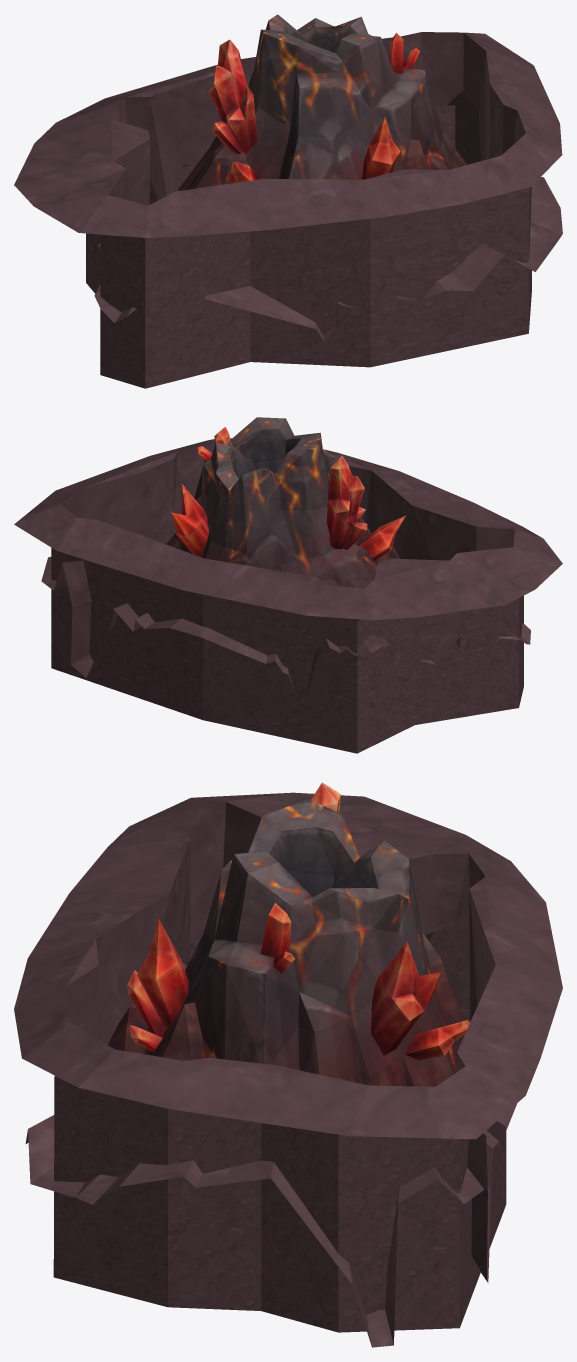
File: yandong_02.FBX
The picture shows the model from 3 angles, top to bottom: view 1: azimuth 30°, elevation 25°; view 2: azimuth 150°, elevation 25°; view 3: azimuth 270°, elevation 25°; orthographic projection. The views are drawn at different scales.
Parts seen in each view (by area): view 1: yandong_02c, yandong_02b, yandong_02a; view 2: yandong_02c, yandong_02b, yandong_02a; view 3: yandong_02b, yandong_02c, yandong_02a.
Boxes of the visible parts, <box> form: yandong_02c: <box>86,93,531,388</box>; yandong_02b: <box>14,32,562,341</box>; yandong_02a: <box>178,14,467,190</box>; yandong_02c: <box>51,513,523,753</box>; yandong_02b: <box>14,438,562,702</box>; yandong_02a: <box>166,417,405,588</box>; yandong_02b: <box>14,792,562,1347</box>; yandong_02c: <box>53,924,506,1332</box>; yandong_02a: <box>108,782,469,1086</box>.
Bounding box in the file's own units: 1744 × 880 × 1182.
